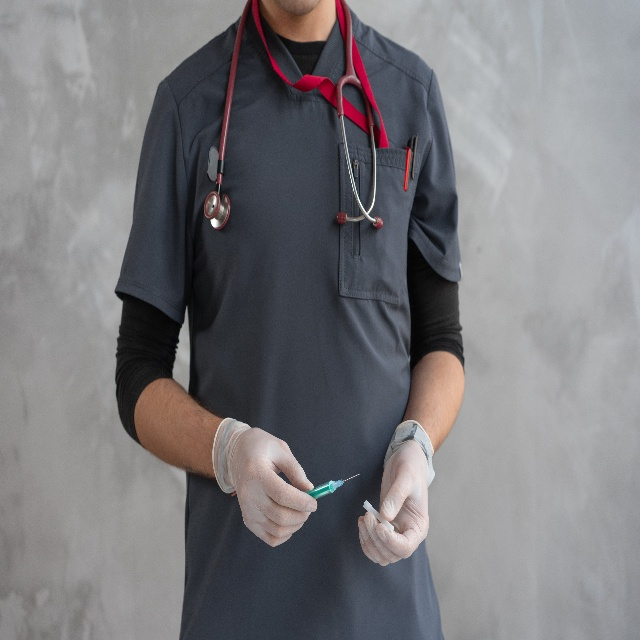Guantes: (210, 416, 318, 546), (358, 418, 434, 566)
Sin_guantes: (234, 426, 317, 547), (358, 441, 429, 566)
